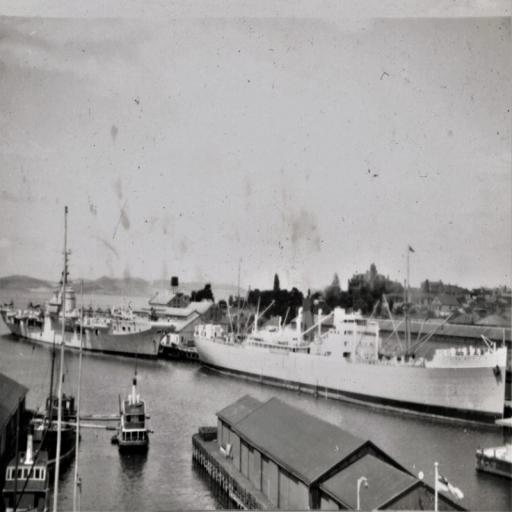Portanaves: (2, 255, 178, 368)
